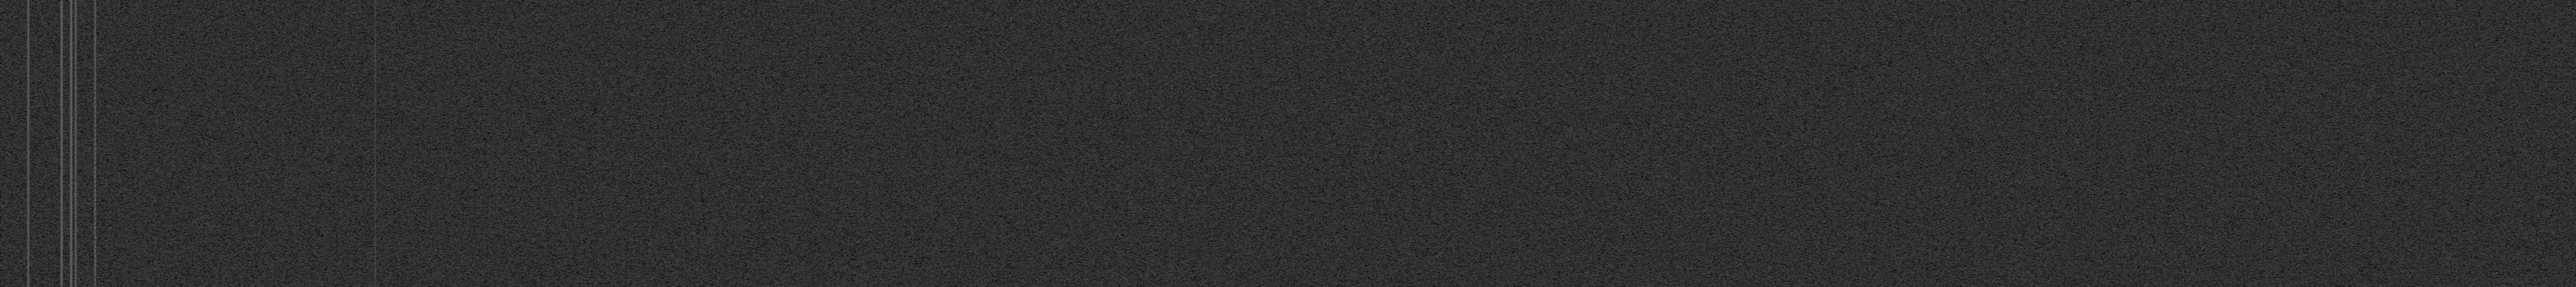wv_am: (373, 0, 376, 287), (94, 0, 97, 287)
wv_cw: (59, 0, 64, 287), (69, 0, 72, 287), (26, 0, 30, 287), (74, 0, 77, 287)
